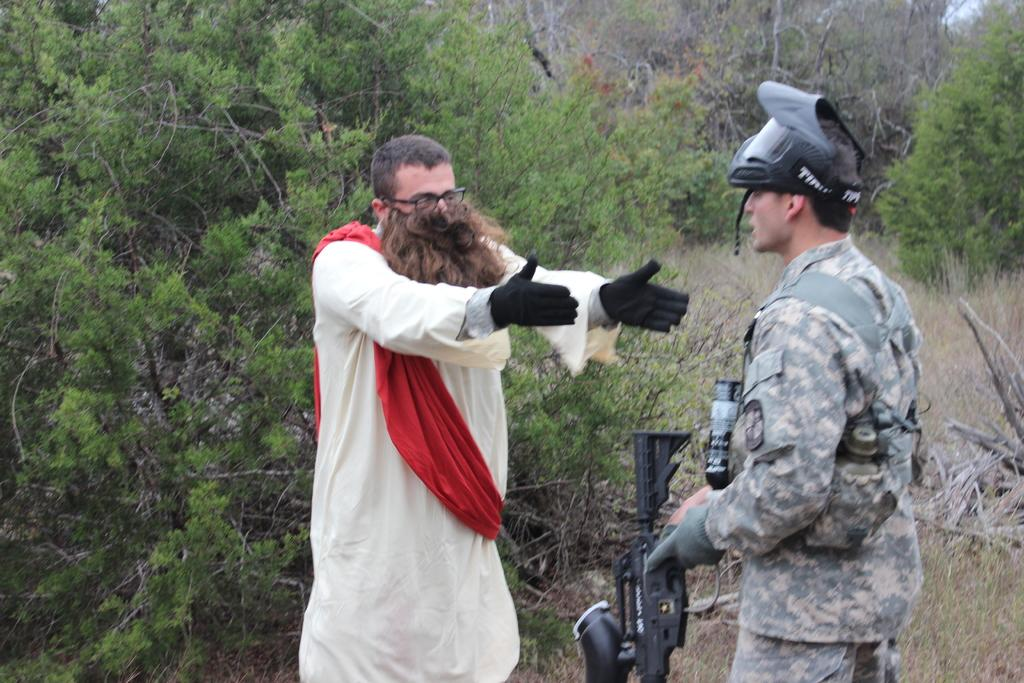non-violence: (296, 132, 692, 682), (672, 78, 924, 682)
weapon: (566, 432, 692, 682)
